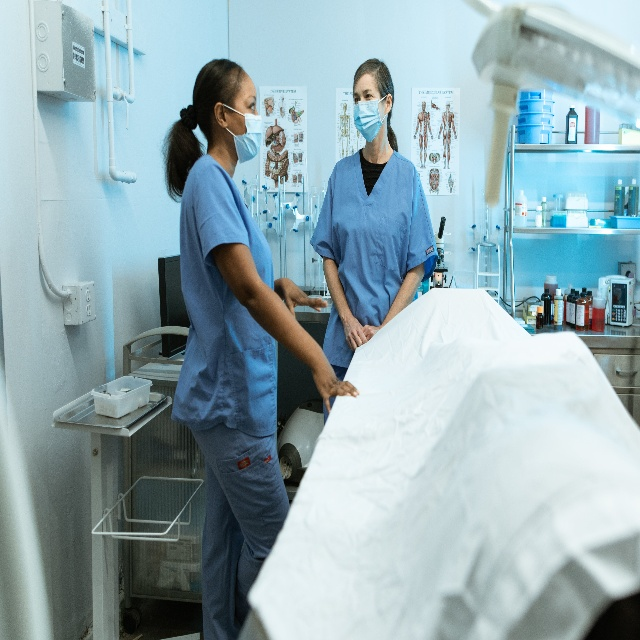Mascara: (219, 102, 262, 163), (353, 93, 388, 143)
Sin_guantes: (312, 348, 360, 417), (283, 277, 327, 322), (344, 318, 368, 351), (362, 323, 381, 343)
